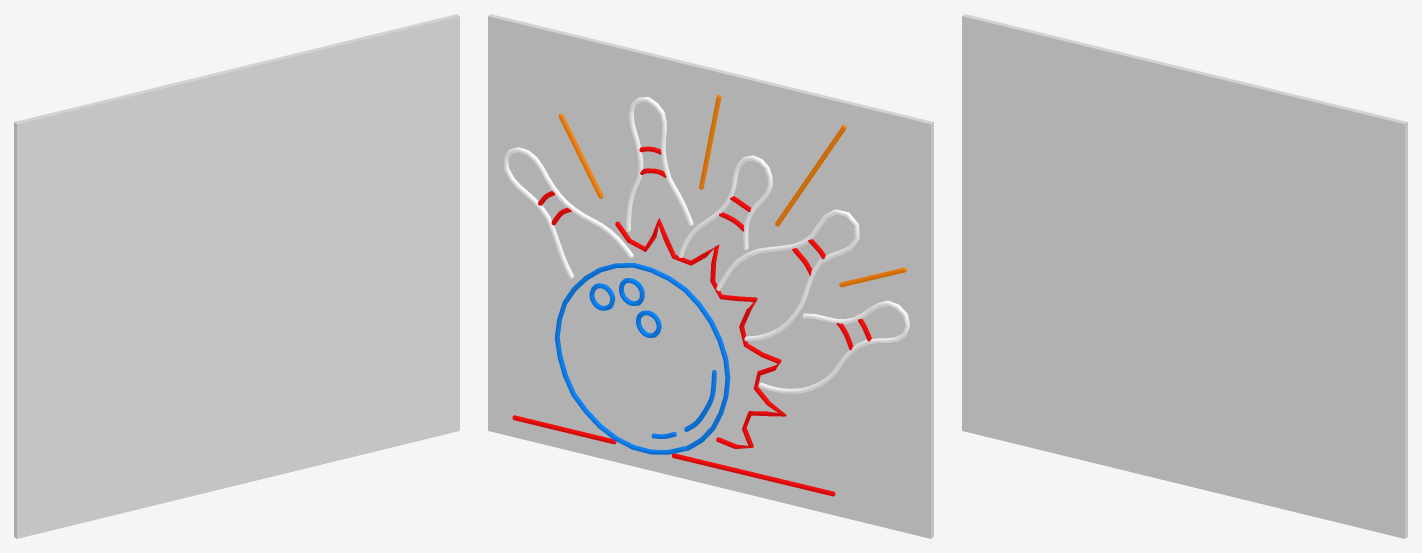
The model's file is my-neon-sign-optimized (35).glb.
3 views of the same model, side by side, from view 1: azimuth 30°, elevation 25°; view 2: azimuth 150°, elevation 25°; view 3: azimuth 330°, elevation 25° (orthographic).
Size of the model in its own units: 600 by 537 by 17.
